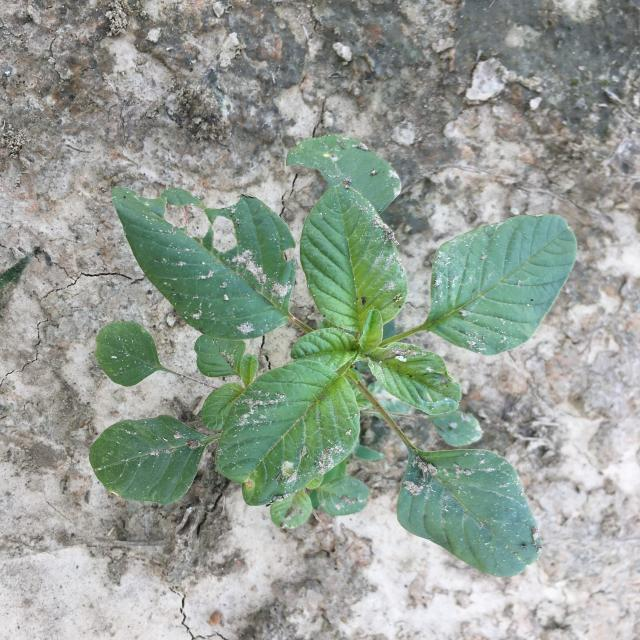PalmerAmaranth: (89, 134, 577, 578)
